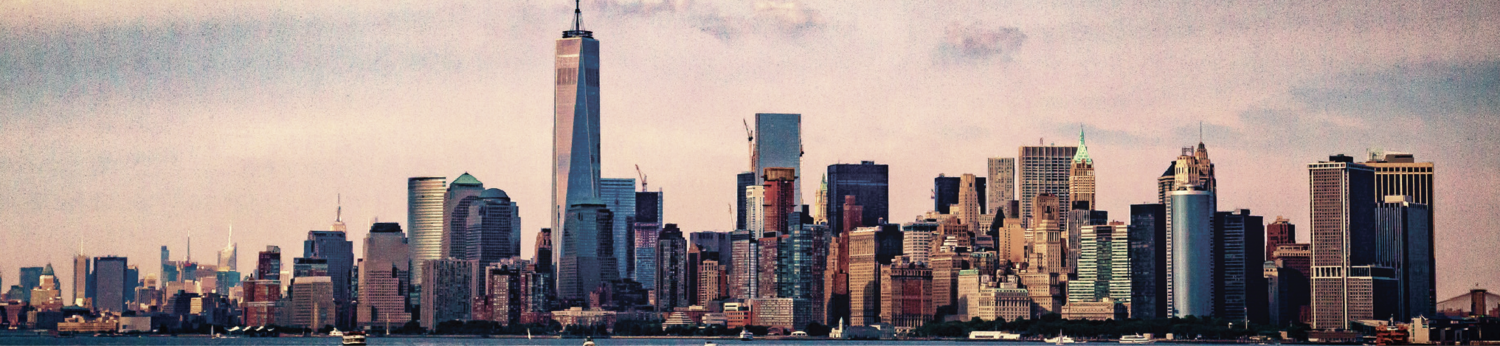wtc: (546, 1, 601, 222)
